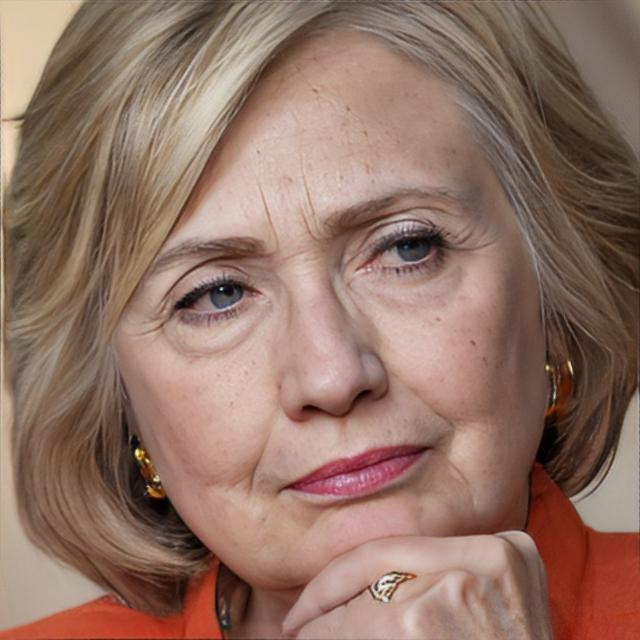sad: (112, 34, 545, 596)
